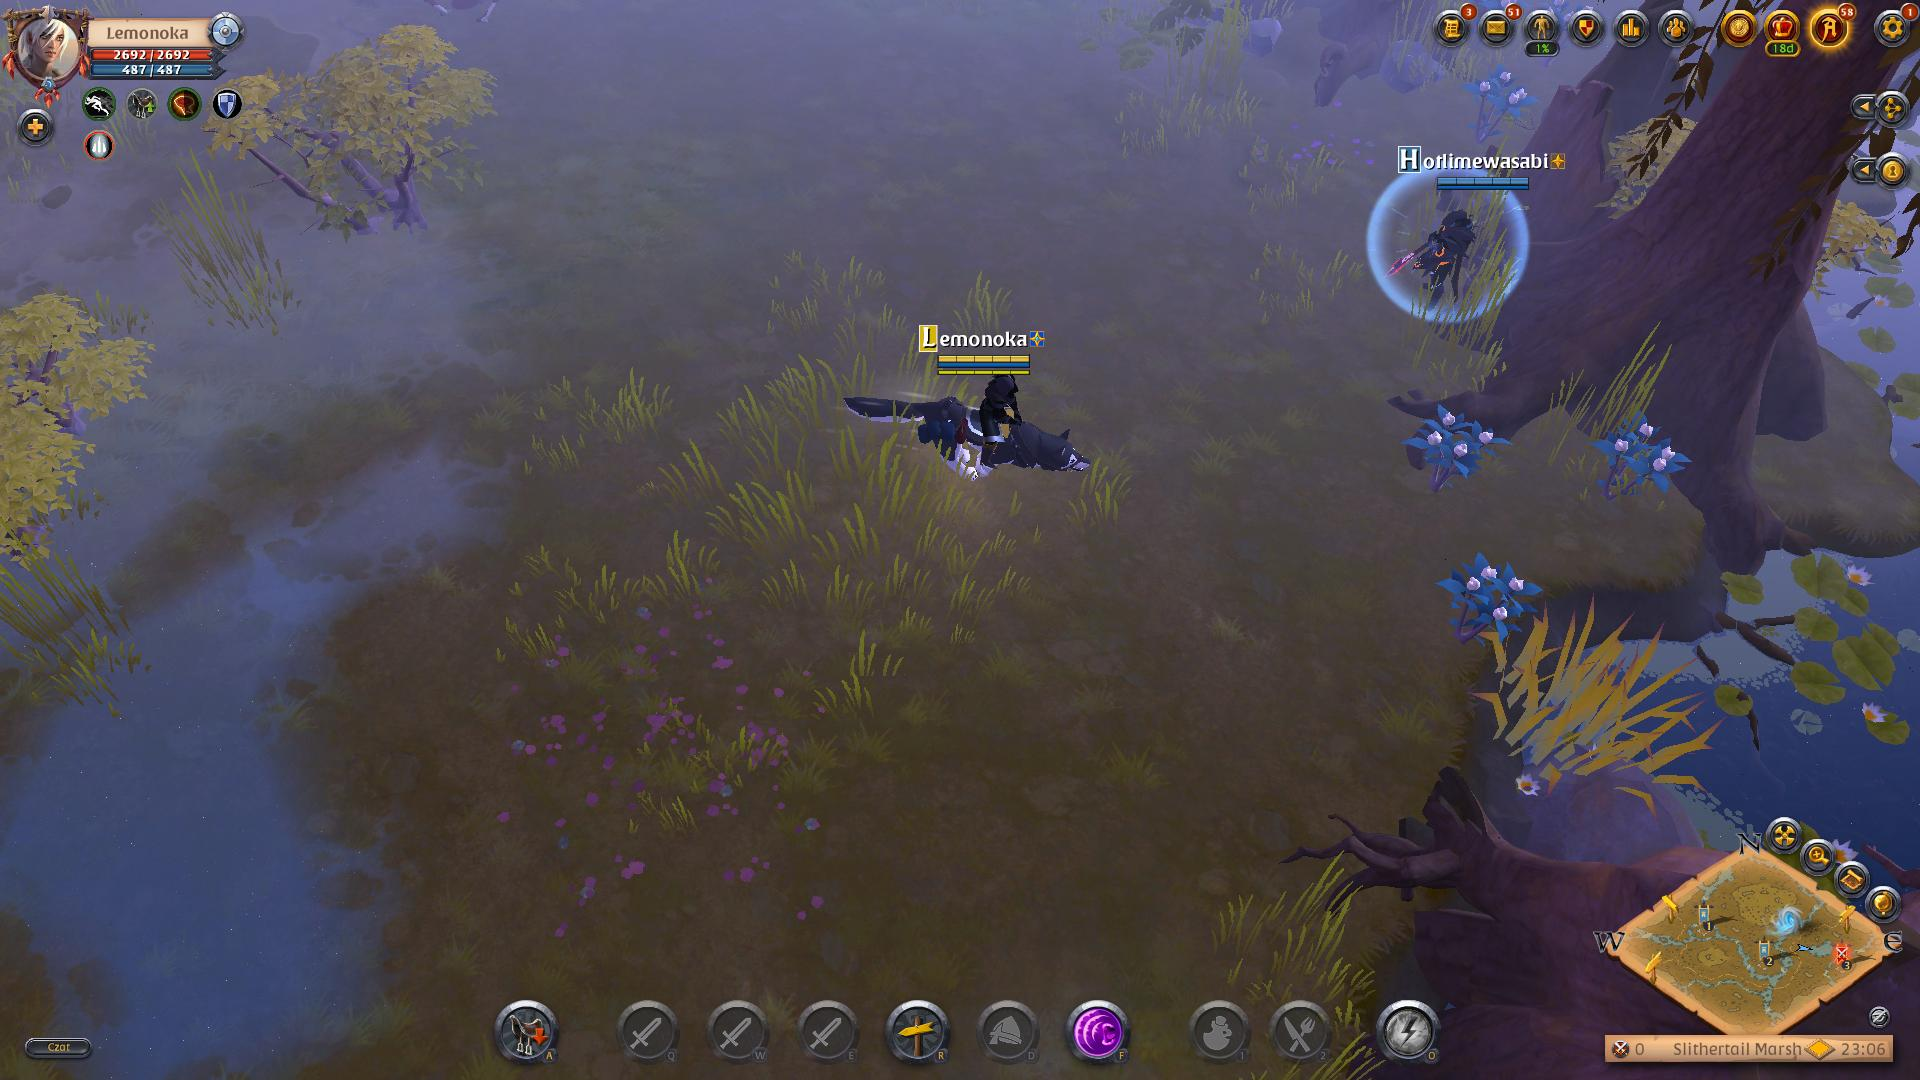fiber tier 4: (1593, 410, 1695, 513), (1400, 405, 1509, 500), (1455, 58, 1539, 152)
